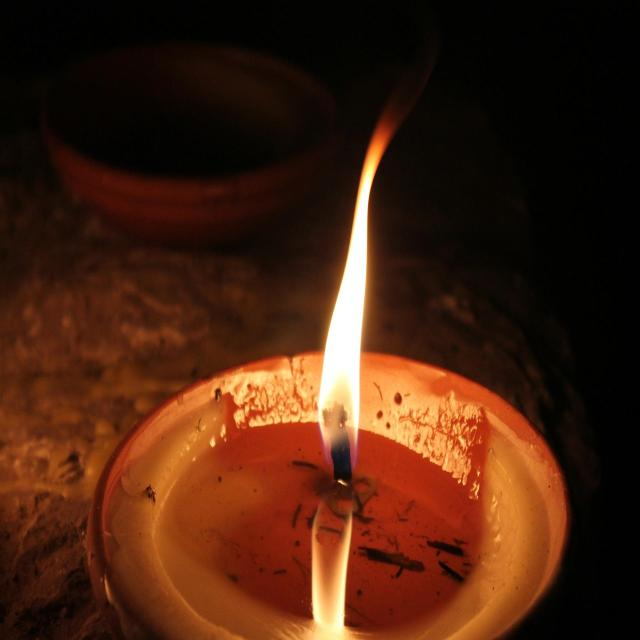Fire_Save: (84, 74, 571, 638)
